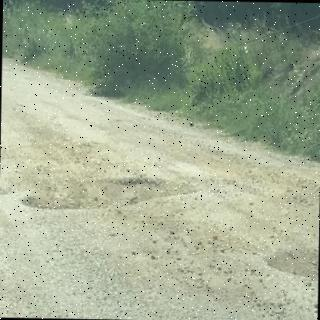pothole: (21, 176, 192, 210), (265, 248, 318, 279)
